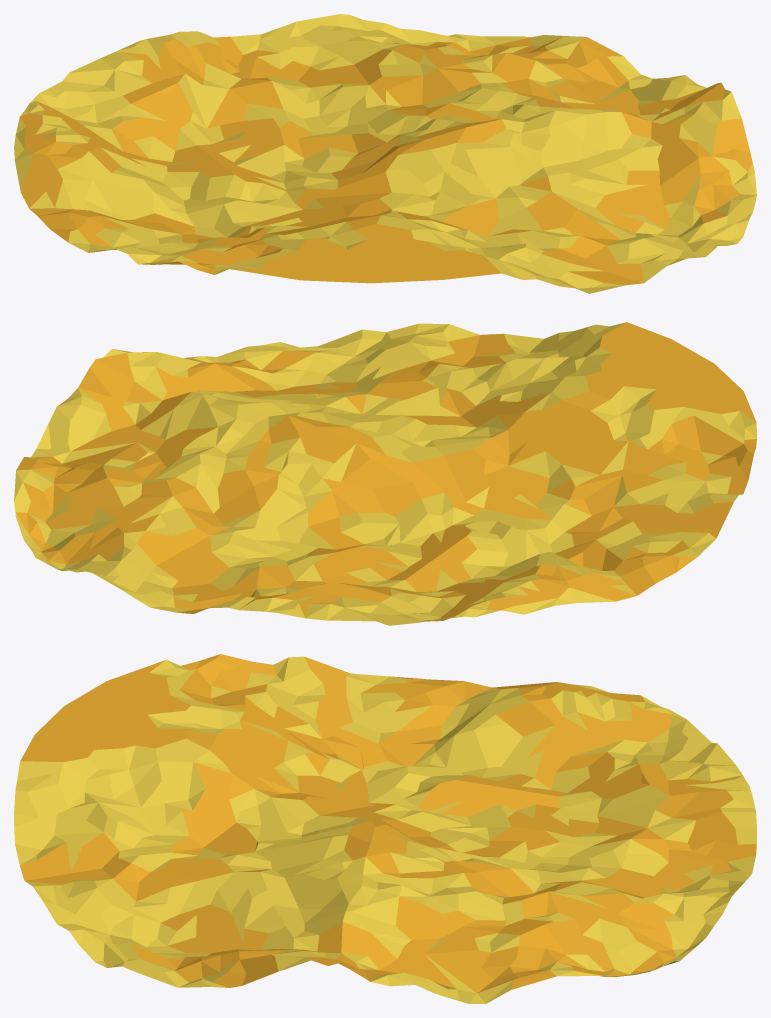
The model's file is land.fbx.
3 renders of one model, top to bottom at view 1: azimuth 30°, elevation 25°; view 2: azimuth 150°, elevation 25°; view 3: azimuth 270°, elevation 25°, orthographic. The views are drawn at different scales.
Visible parts, largest first — view 1: Plane.001; view 2: Plane.001; view 3: Plane.001.
Part boxes in pixels (<box>): Plane.001: <box>14,14,756,293</box>; Plane.001: <box>14,322,756,625</box>; Plane.001: <box>14,654,756,1003</box>.
Size of the model in its own units: 18340 by 2022 by 18336.
